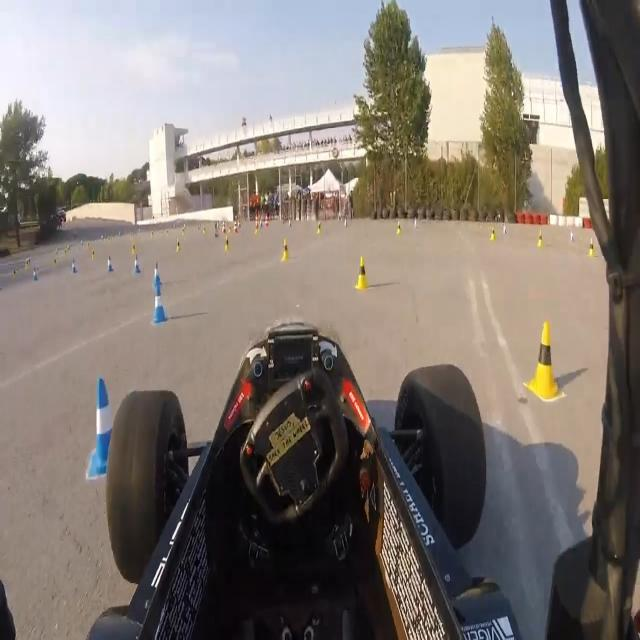blue_cone: (86, 376, 125, 480), (151, 283, 168, 326), (152, 262, 163, 289), (132, 254, 142, 275), (106, 256, 114, 274), (70, 258, 78, 274), (31, 266, 39, 282)
yellow_cone: (523, 320, 567, 404), (354, 256, 372, 292), (280, 238, 290, 262), (587, 238, 596, 258), (536, 230, 545, 248), (489, 226, 496, 242), (316, 221, 323, 234), (396, 220, 402, 235), (225, 235, 230, 252), (176, 238, 182, 252), (132, 242, 137, 254)
